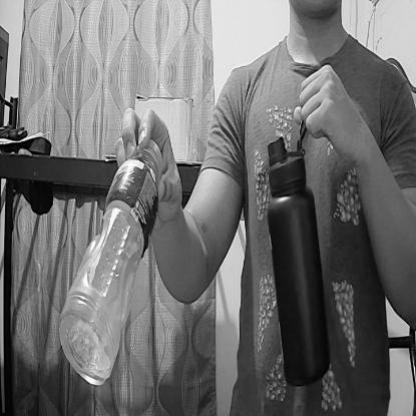Plastic Bottle: (53, 130, 177, 403)
